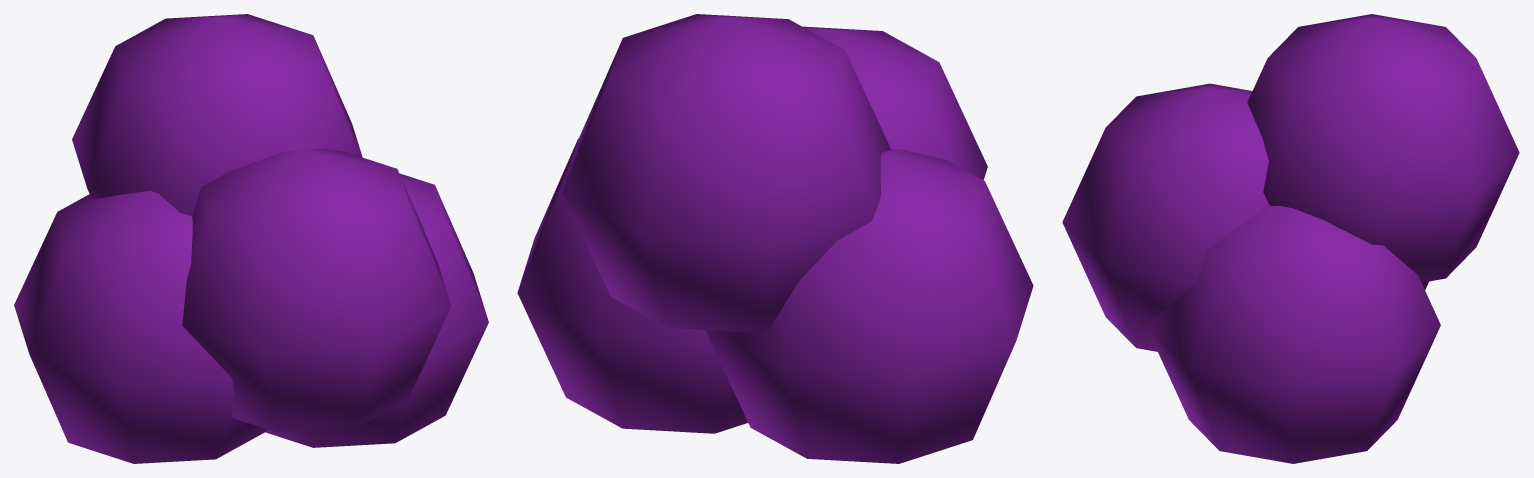
The model's file is banggu.fbx.
The picture shows the model from 3 angles, left to right: view 1: azimuth 30°, elevation 25°; view 2: azimuth 150°, elevation 25°; view 3: azimuth 270°, elevation 25°; orthographic projection. The views are drawn at different scales.
Visible parts, largest first — view 1: Sphere004; view 2: Sphere004; view 3: Sphere004.
Boxes of the visible parts, left/top/right/bottom form: Sphere004: left=14, top=14, right=488, bottom=463; Sphere004: left=517, top=14, right=1033, bottom=463; Sphere004: left=1062, top=14, right=1519, bottom=463.
Size of the model in its own units: 62.38 by 56.84 by 58.59.
